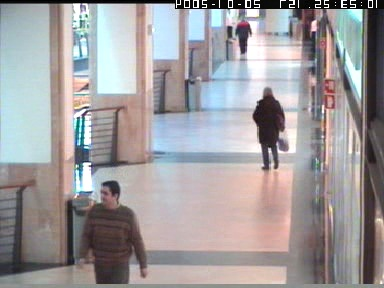person: (78, 181, 149, 283), (252, 86, 288, 169), (235, 16, 251, 56), (307, 15, 317, 54), (224, 9, 235, 39)
